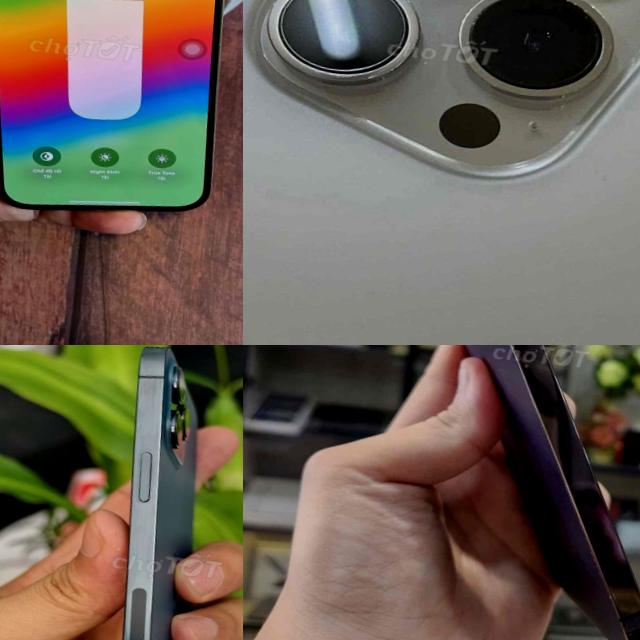gen_12_13: (82, 345, 241, 640)
gen_14: (243, 0, 640, 345), (336, 345, 640, 640), (0, 0, 243, 232)
